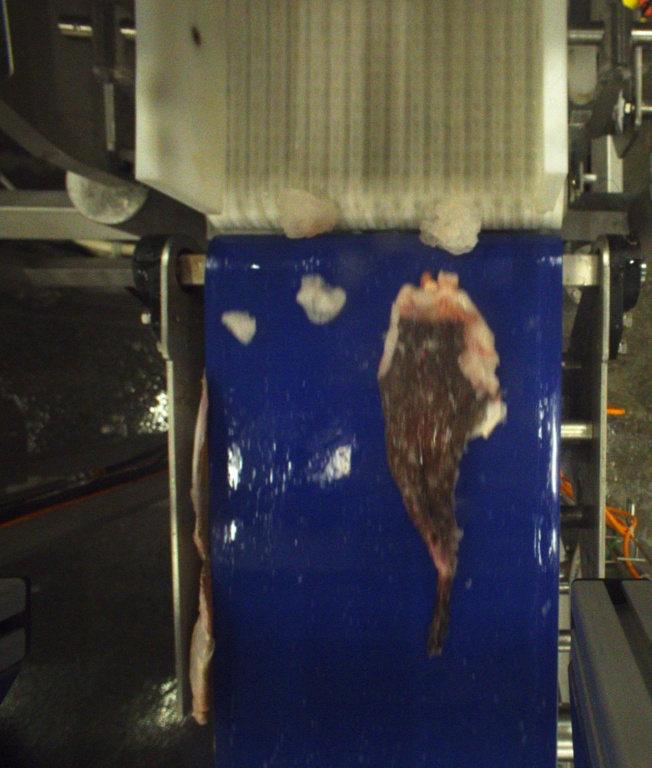ANF: (382, 270, 505, 657)
